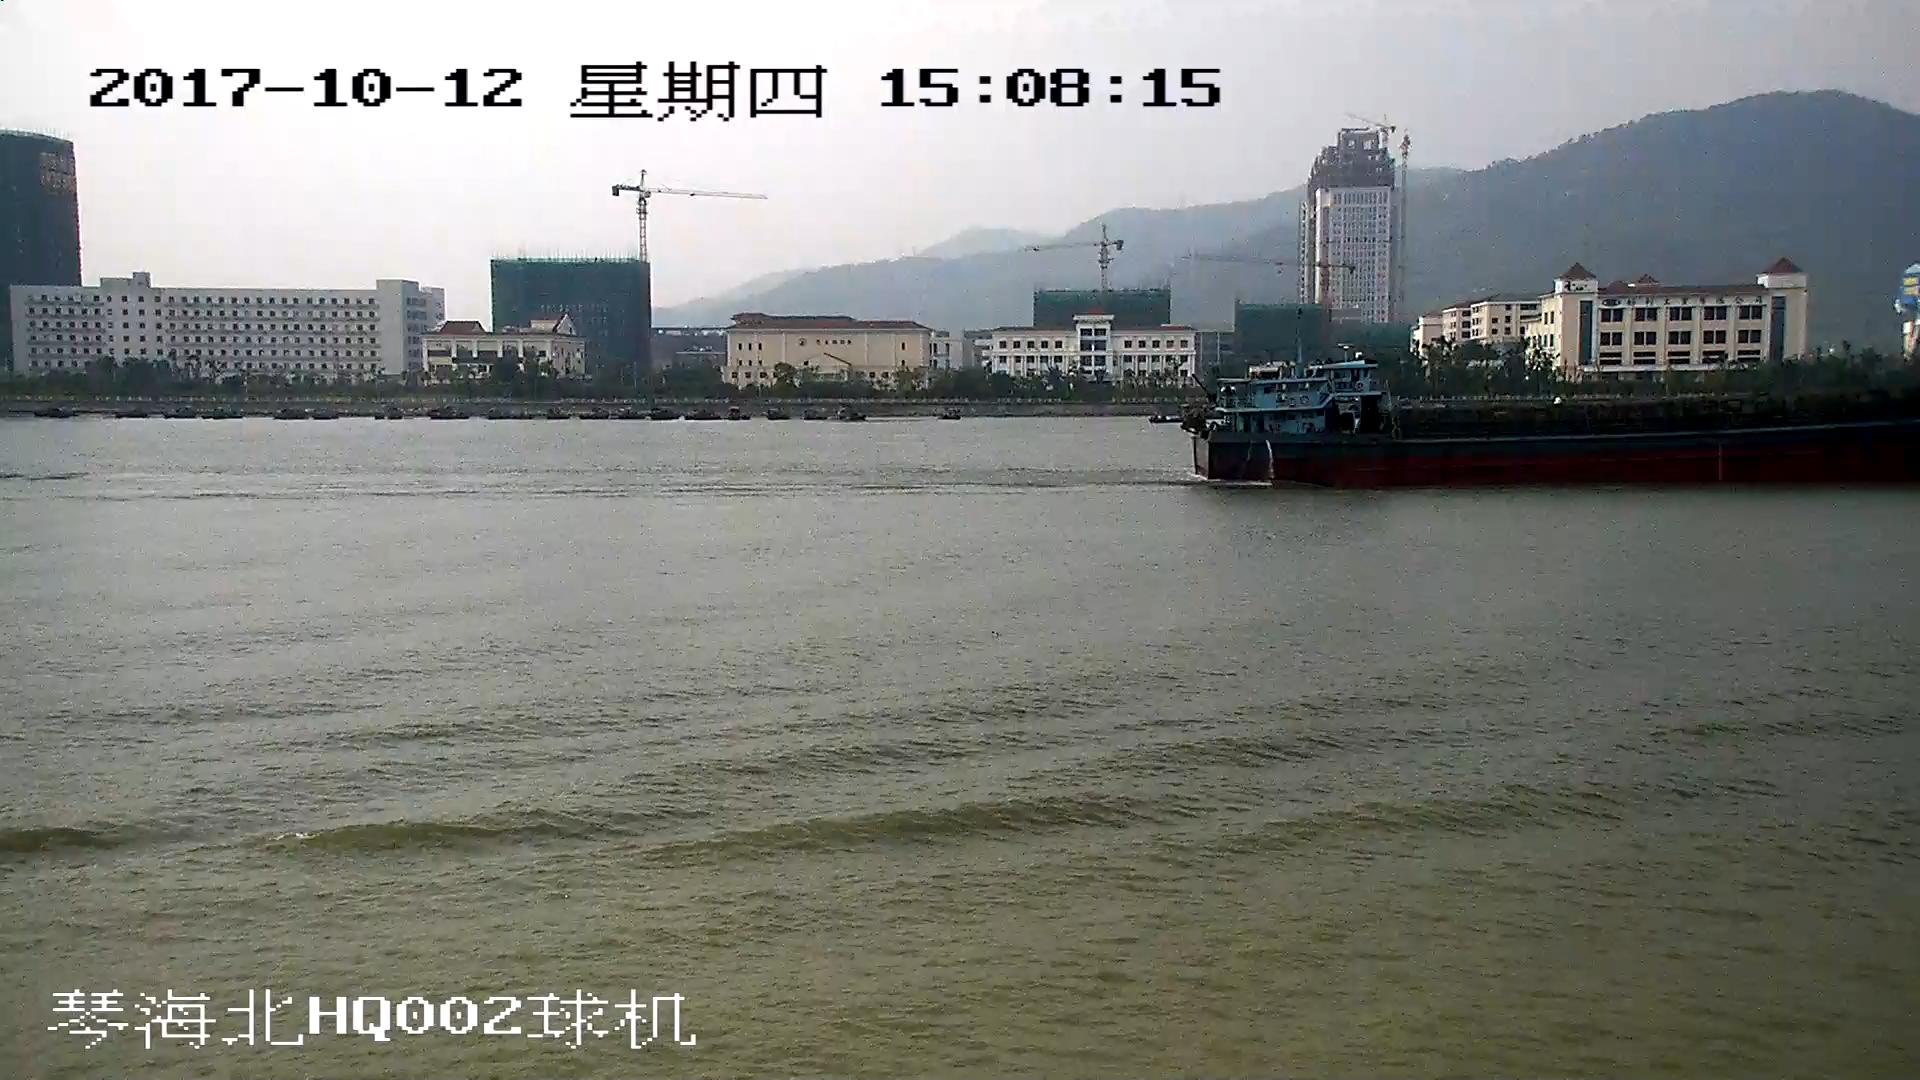bulk cargo carrier: (1183, 360, 1920, 484)
